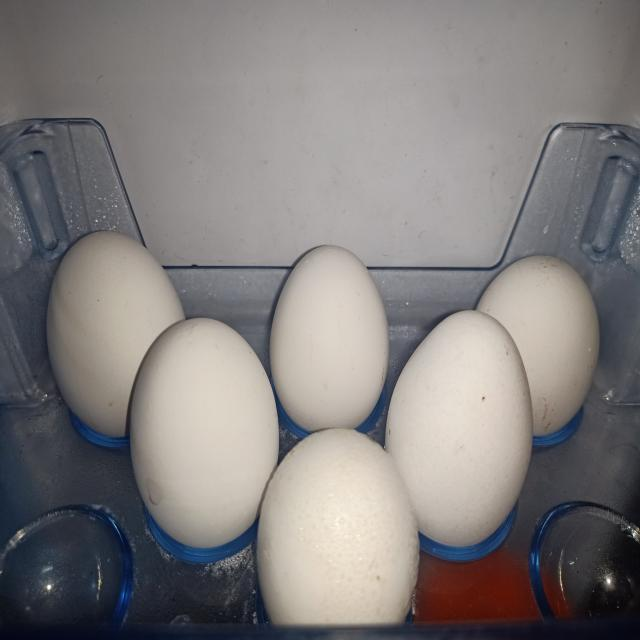Egg: (386, 310, 534, 547), (129, 318, 278, 549), (257, 429, 420, 626), (46, 231, 184, 437), (477, 255, 600, 436), (270, 245, 389, 432)
